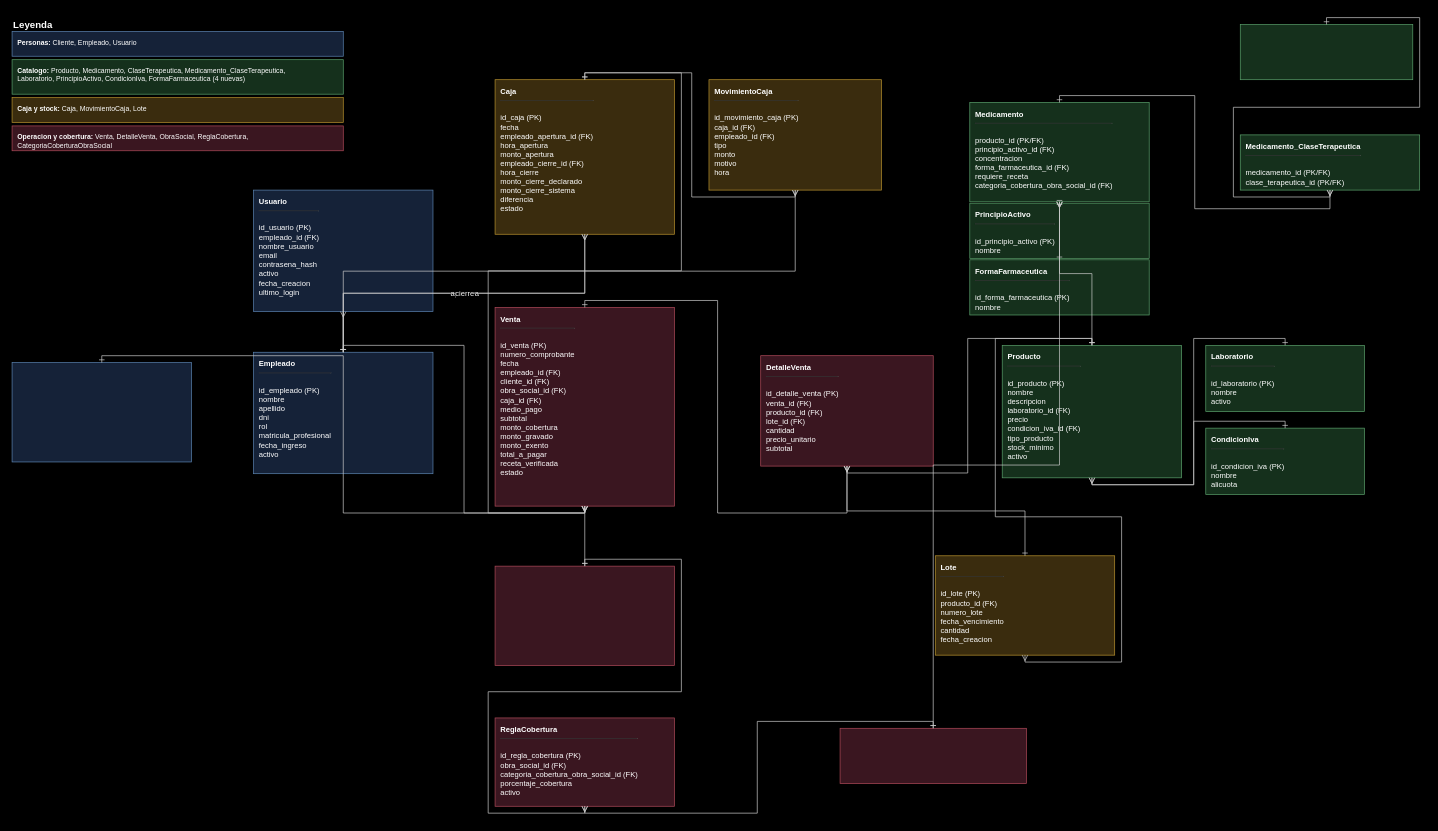
Some shapes in this 1438 by 831 pixel diagram are drawn without their labels. Here are the shapes that lost their labels. From the top down, the box of each, then its label:
(1240, 24, 1413, 80): ClaseTerapeutica id_clase_terapeutica (PK) nombre
(11, 362, 191, 462): Cliente id_cliente (PK) nombre apellido dni telefono fecha_creacion
(494, 565, 674, 666): ObraSocial id_obra_social (PK) nombre cuit contacto tipo_validacion activo
(839, 728, 1026, 783): CategoriaCoberturaObraSocial id_categoria_cobertura_obra_social (PK) nombre
